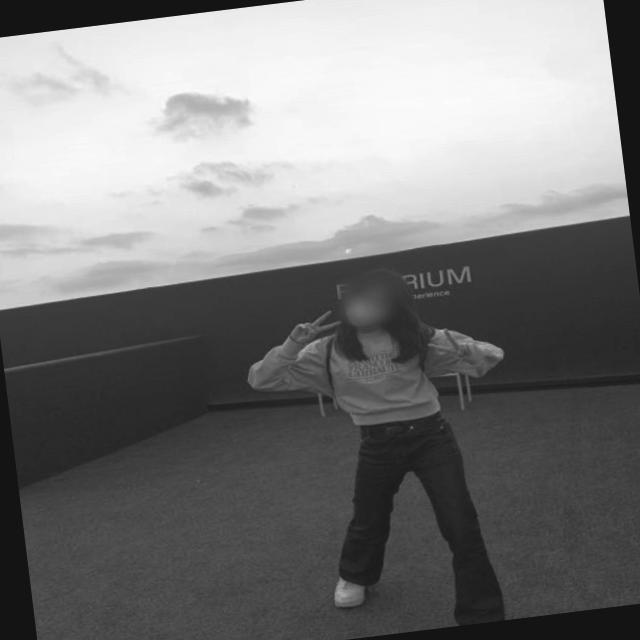denimpants: (318, 402, 508, 639)
mtm: (247, 308, 516, 442)
